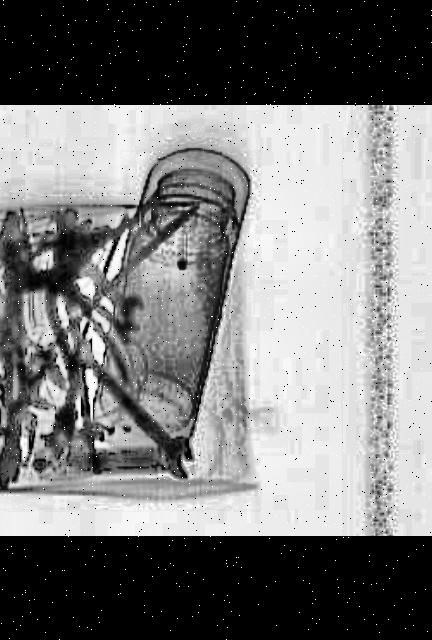Wrench: (58, 337, 218, 485), (0, 210, 85, 419), (67, 259, 165, 339), (0, 410, 30, 491)
